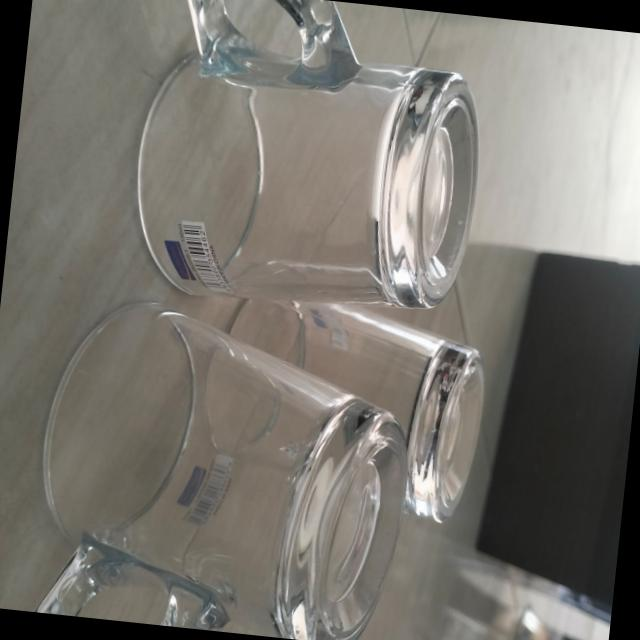glass-VX4N: (23, 290, 421, 640), (123, 0, 491, 320), (198, 253, 496, 526)
